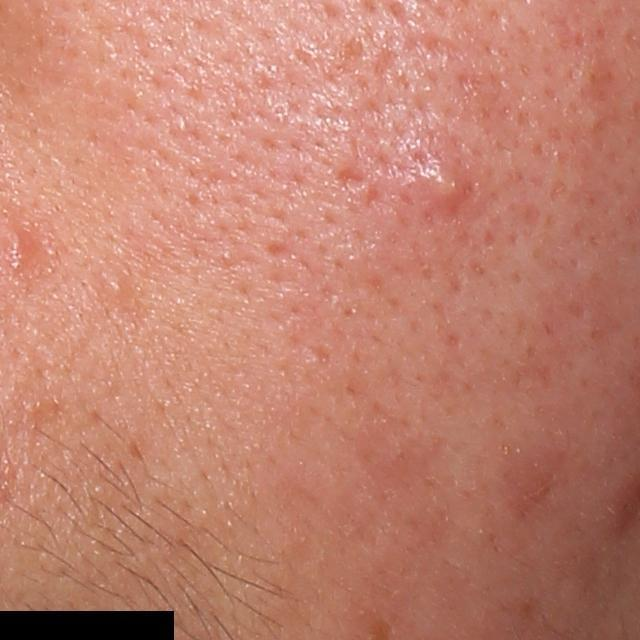atrophic_scar: (332, 167, 370, 193)
comedo: (101, 271, 131, 301)
papule: (400, 148, 473, 227)
